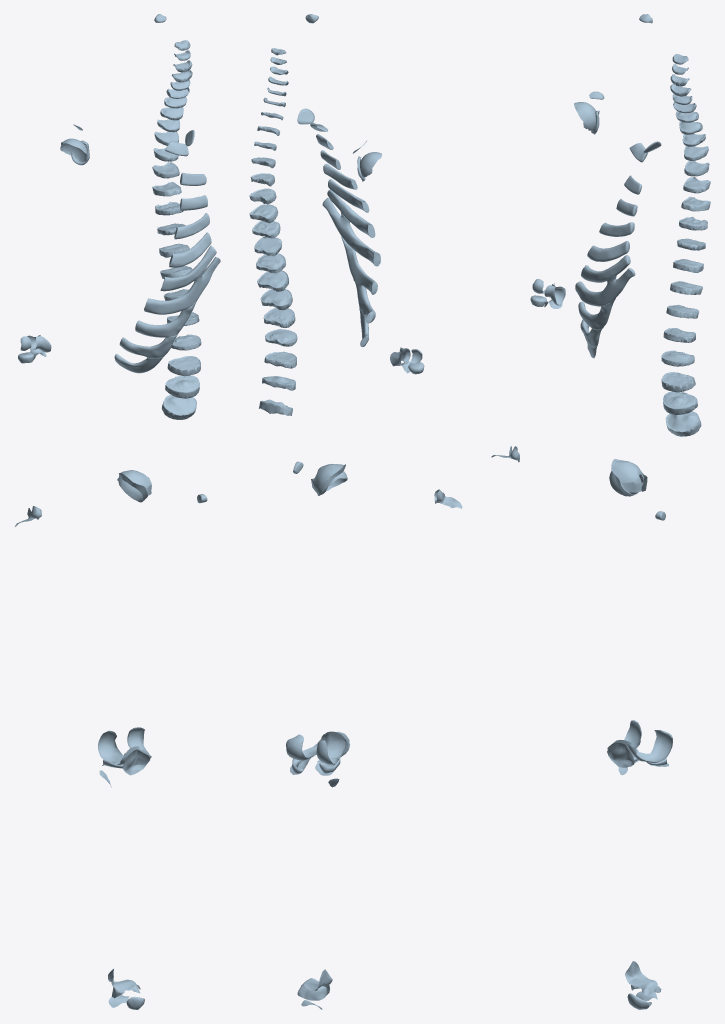
The model's file is cartilage.glb.
3 renders of one model, left to right at view 1: azimuth 30°, elevation 25°; view 2: azimuth 150°, elevation 25°; view 3: azimuth 330°, elevation 25°, orthographic. The views are drawn at different scales.
Visible parts, largest first — view 1: cartilage_costal_cartilage_7_r, cartilage_articular_femur_condyles_r, cartilage_costal_cartilage_8_r, cartilage_costal_cartilage_6_r, cartilage_disc_l5_s1, cartilage_disc_l4_l5, cartilage_costal_cartilage_9_r, cartilage_costal_cartilage_5_r, cartilage_disc_l3_l4, cartilage_articular_talus_r, cartilage_costal_cartilage_10_r; view 2: cartilage_articular_femur_condyles_r, cartilage_costal_cartilage_7_r, cartilage_costal_cartilage_8_r, cartilage_costal_cartilage_6_r, cartilage_disc_t12_l1, cartilage_disc_t11_t12, cartilage_disc_l1_l2; view 3: cartilage_articular_femur_condyles_r, cartilage_costal_cartilage_7_r, cartilage_articular_acetabulum_r, cartilage_disc_l5_s1, cartilage_disc_l4_l5, cartilage_costal_cartilage_6_r, cartilage_costal_cartilage_8_r, cartilage_disc_l3_l4, cartilage_costal_cartilage_5_r, cartilage_articular_talus_r, cartilage_articular_patella_r.
Boxes of the visible parts, <box> form: cartilage_costal_cartilage_7_r: <box>144,257,220,314</box>; cartilage_articular_femur_condyles_r: <box>98,727,151,765</box>; cartilage_costal_cartilage_8_r: <box>135,298,198,337</box>; cartilage_costal_cartilage_6_r: <box>160,245,216,291</box>; cartilage_disc_l5_s1: <box>161,394,196,419</box>; cartilage_disc_l4_l5: <box>165,375,199,398</box>; cartilage_costal_cartilage_9_r: <box>119,334,177,357</box>; cartilage_costal_cartilage_5_r: <box>169,232,211,267</box>; cartilage_disc_l3_l4: <box>167,356,200,376</box>; cartilage_articular_talus_r: <box>108,985,144,1009</box>; cartilage_costal_cartilage_10_r: <box>114,354,164,373</box>; cartilage_articular_femur_condyles_r: <box>286,731,346,764</box>; cartilage_costal_cartilage_7_r: <box>322,198,380,266</box>; cartilage_costal_cartilage_8_r: <box>341,236,377,294</box>; cartilage_costal_cartilage_6_r: <box>327,189,375,237</box>; cartilage_disc_t12_l1: <box>260,289,292,310</box>; cartilage_disc_t11_t12: <box>257,270,288,291</box>; cartilage_disc_l1_l2: <box>263,308,295,327</box>; cartilage_articular_femur_condyles_r: <box>612,720,672,762</box>; cartilage_costal_cartilage_7_r: <box>575,268,635,306</box>; cartilage_articular_acetabulum_r: <box>612,460,647,492</box>; cartilage_disc_l5_s1: <box>666,411,701,436</box>; cartilage_disc_l4_l5: <box>663,391,697,414</box>; cartilage_costal_cartilage_6_r: <box>581,255,630,282</box>; cartilage_costal_cartilage_8_r: <box>578,298,615,329</box>; cartilage_disc_l3_l4: <box>661,372,695,392</box>; cartilage_costal_cartilage_5_r: <box>587,241,629,261</box>; cartilage_articular_talus_r: <box>627,985,661,1009</box>; cartilage_articular_patella_r: <box>607,743,634,767</box>.
Bounding box in the file's own units: 0.3103 × 1.53 × 0.1813.
